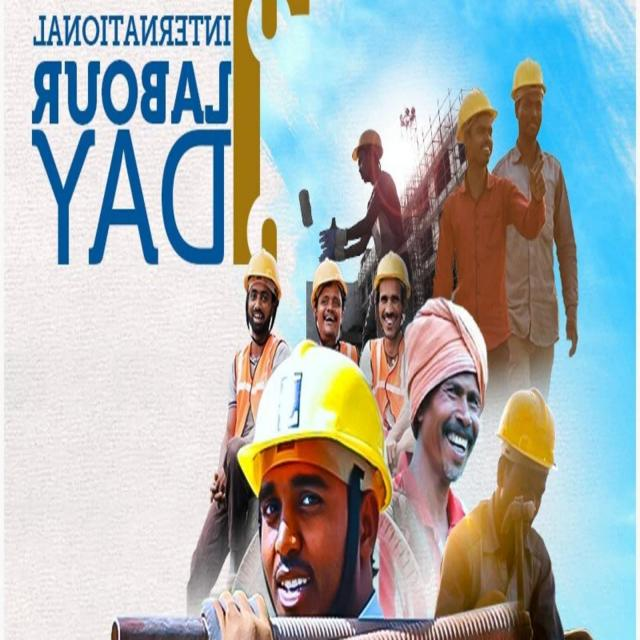Safety-Helmet: (234, 342, 394, 496), (495, 386, 559, 472), (454, 82, 498, 137), (241, 247, 284, 294), (508, 52, 548, 99), (371, 248, 412, 290), (310, 254, 347, 298), (350, 122, 385, 160)
